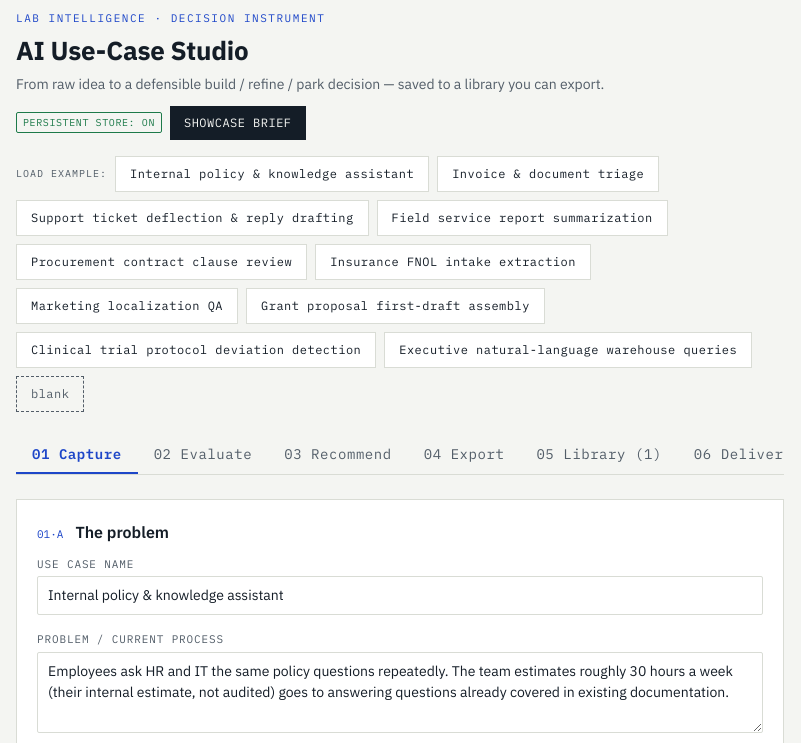
Test case: StudioApp — library wiring › loads the library from /api/use-cases and shows the persistent-store chip
The image size is (801, 743).
expect the text "persistent store: on" is shown: met, box x1=16 y1=112 x2=162 y2=133
What coordinates should you click on to do the following:
click the button "05 Library (1)"
I would click on:
 (599, 454)
Its box is x1=520 y1=436 x2=678 y2=474.
(page scrolled)
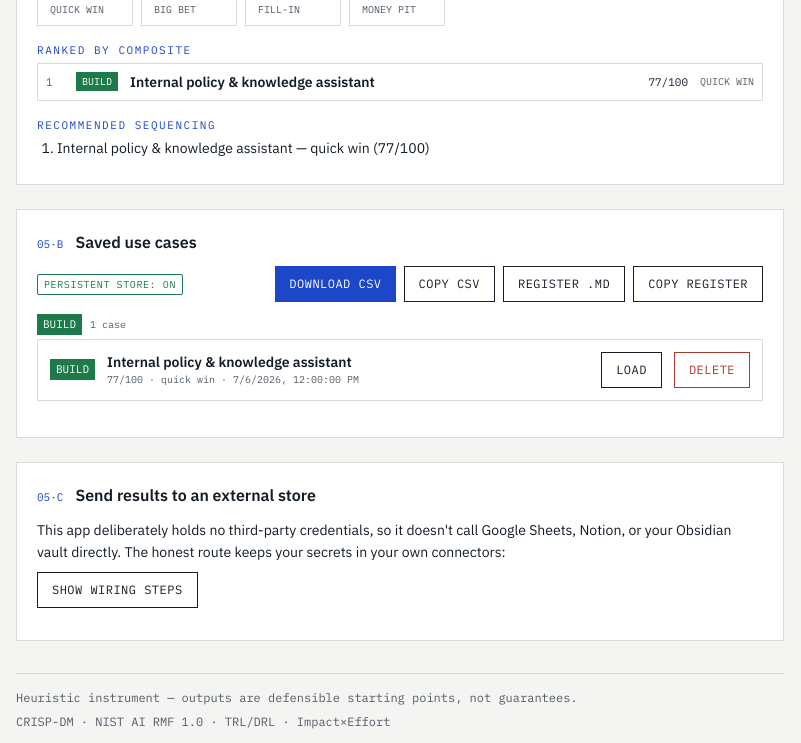
expect the text "BUILD" below "Ranked by composite" is shown: met, box x1=82 y1=75 x2=112 y2=88
